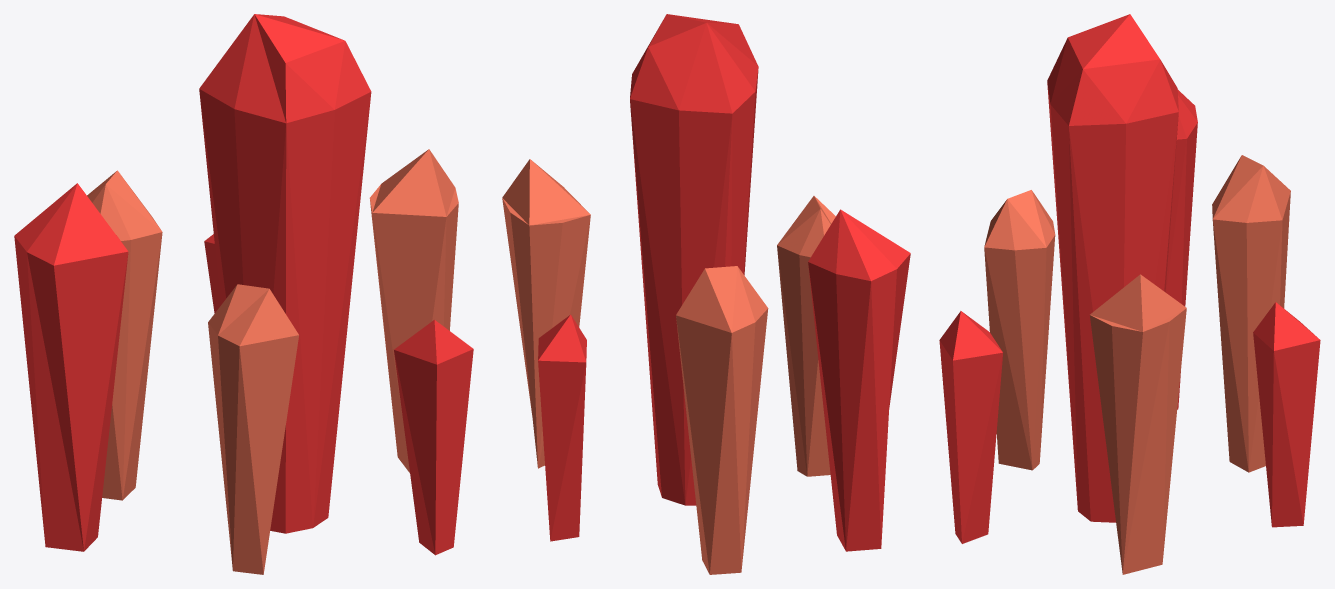
Rendered from Grass.FBX.
3 views of the same model, side by side, from view 1: azimuth 30°, elevation 25°; view 2: azimuth 150°, elevation 25°; view 3: azimuth 270°, elevation 25° (orthographic). The views are drawn at different scales.
Parts seen in each view (by area): view 1: Pyramid001; view 2: Pyramid001; view 3: Pyramid001.
Boxes of the visible parts, <box> form: Pyramid001: <box>14,14,473,574</box>; Pyramid001: <box>502,14,910,574</box>; Pyramid001: <box>939,14,1320,574</box>.
Bounding box in the file's own units: 10.64 × 12.18 × 8.66.
